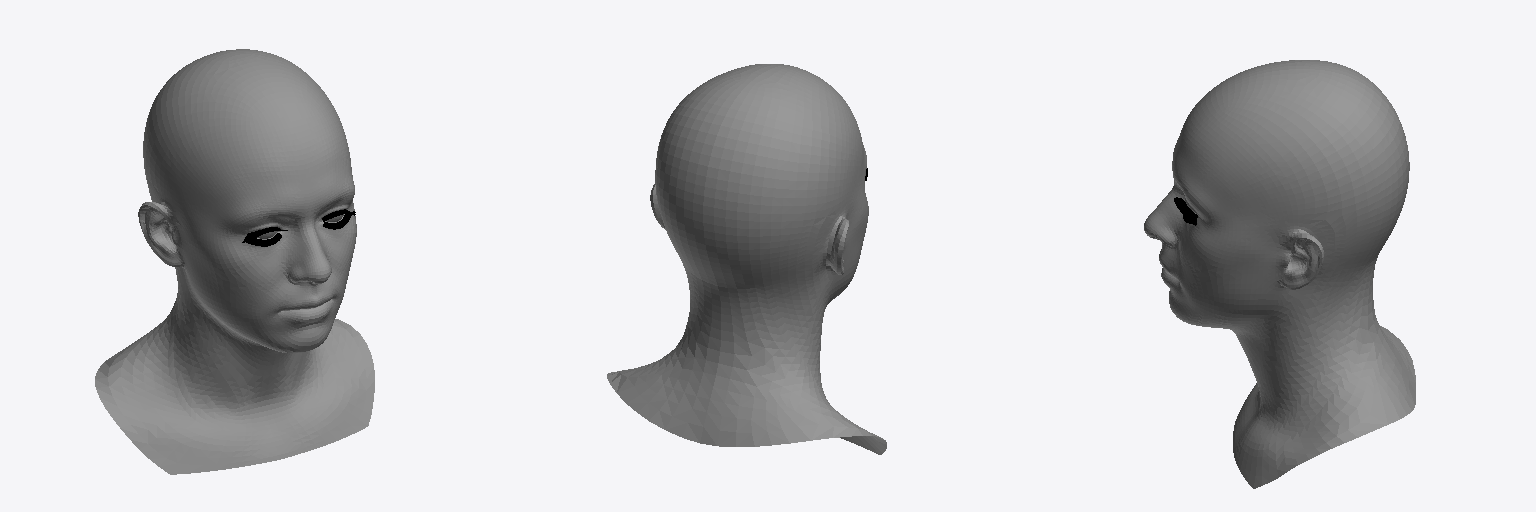
The model's file is identity078.obj.
The picture shows the model from 3 angles: view 1: azimuth 30°, elevation 25°; view 2: azimuth 150°, elevation 25°; view 3: azimuth 270°, elevation 25°; orthographic projection.
Bounding box in the file's own units: 24.8 × 33.81 × 22.32.